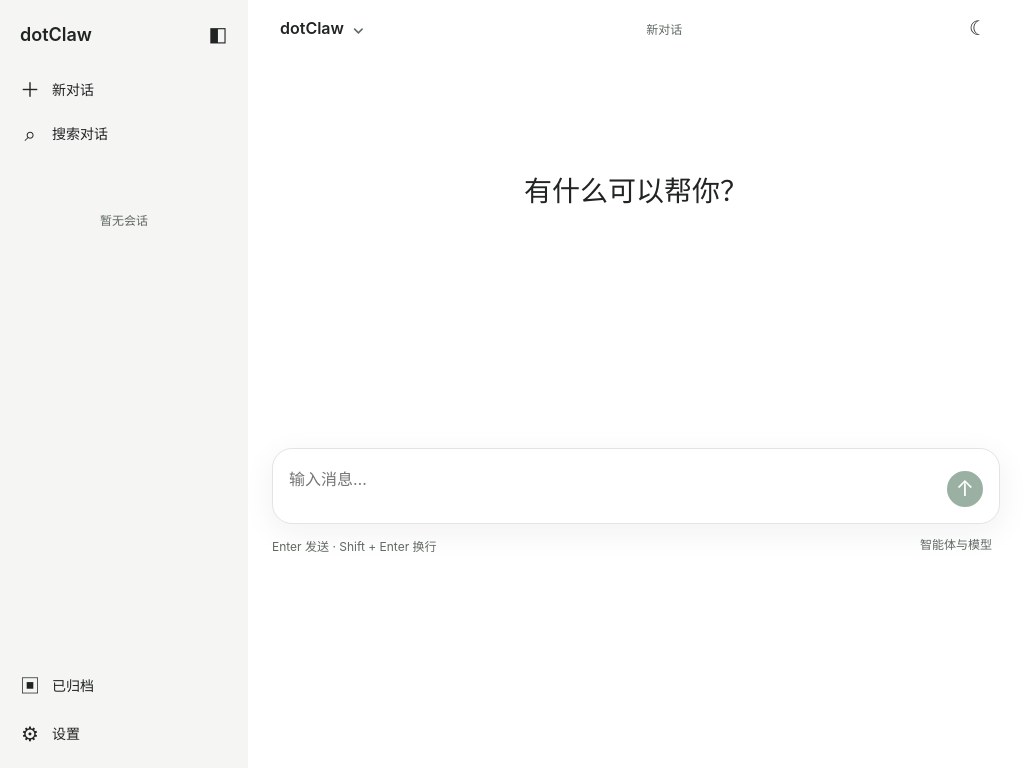
Test: 对话工作区 › 首条输入只创建一次并提交一次，自动使用默认选项
Expected: the heading "有什么可以帮你？" is shown, [524, 174, 748, 208]
In the text box labelled "输入消息": (612, 487) [289, 463, 935, 511], type "第一条消息"
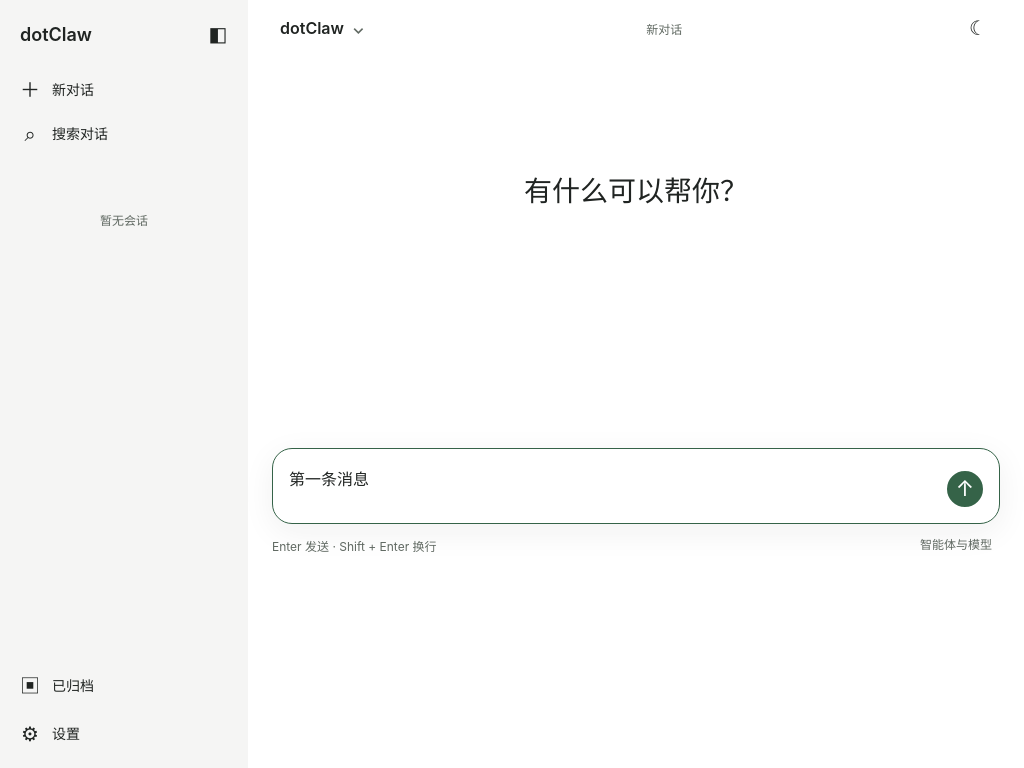
Click the button named "发送消息": (965, 489) [943, 467, 987, 511]
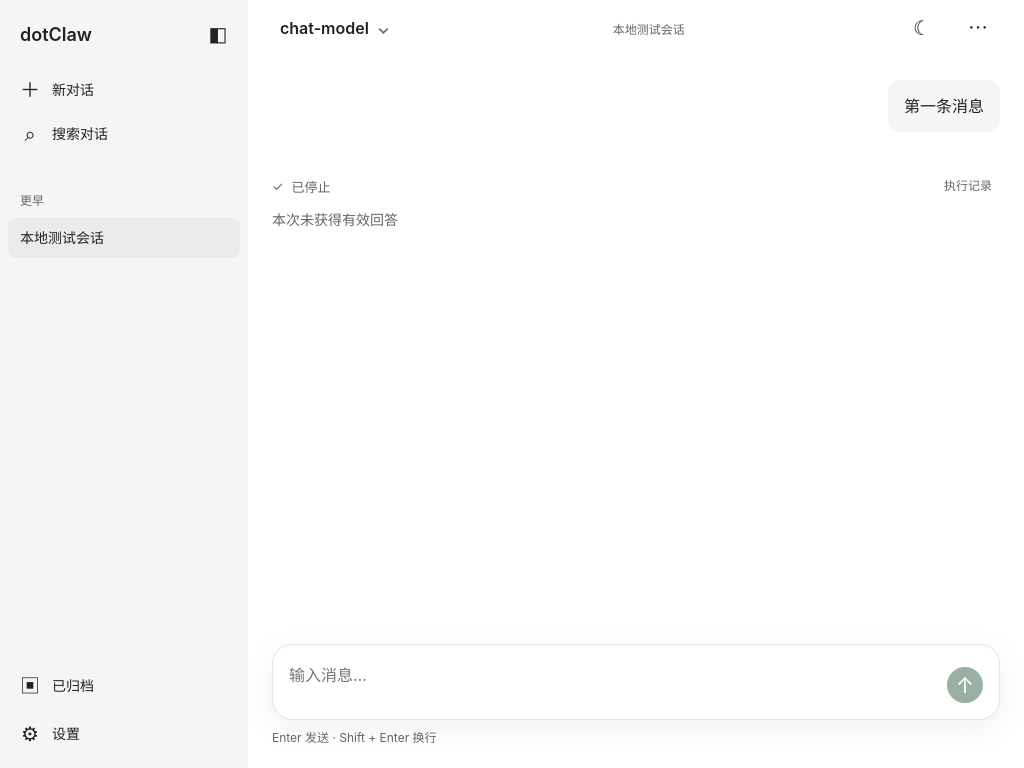
Result: the text "第一条消息" is shown at [904, 92, 984, 120]
